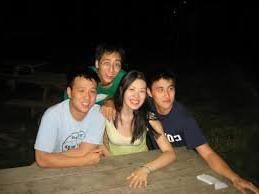Drunk: (74, 78, 97, 112), (99, 50, 121, 83), (125, 77, 147, 109), (153, 80, 176, 108)
